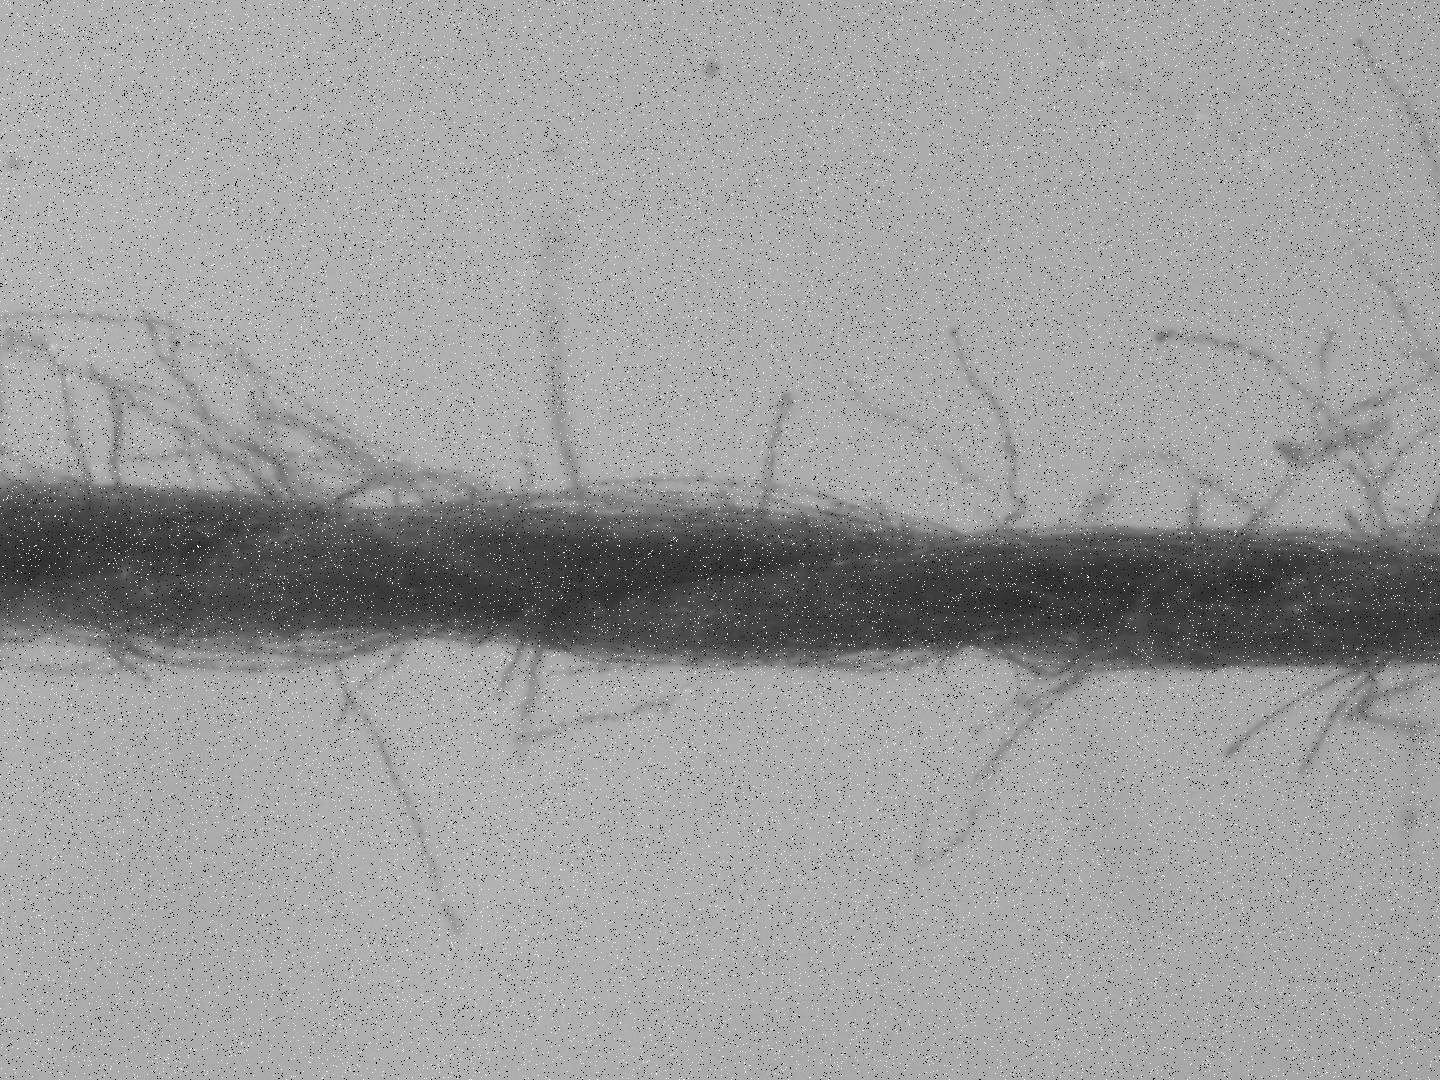loop_fiber: (518, 474, 956, 535), (1064, 440, 1273, 538), (100, 628, 404, 678), (1, 609, 185, 691), (754, 383, 799, 524), (787, 644, 963, 677)
protruding_fiber: (1032, 1, 1439, 403), (1158, 357, 1440, 604), (1143, 321, 1404, 538), (320, 636, 472, 955), (1271, 321, 1401, 549), (904, 643, 1032, 870), (836, 371, 1008, 530), (510, 658, 739, 749), (940, 319, 1031, 537), (548, 213, 604, 530), (1347, 33, 1440, 216), (959, 657, 1106, 773), (1210, 659, 1365, 767), (1280, 656, 1398, 785), (1362, 406, 1440, 546), (321, 636, 425, 729), (1348, 665, 1440, 751), (1390, 666, 1426, 835), (514, 621, 552, 775), (545, 652, 671, 681), (494, 617, 531, 703), (1184, 476, 1240, 531), (511, 413, 532, 511)
